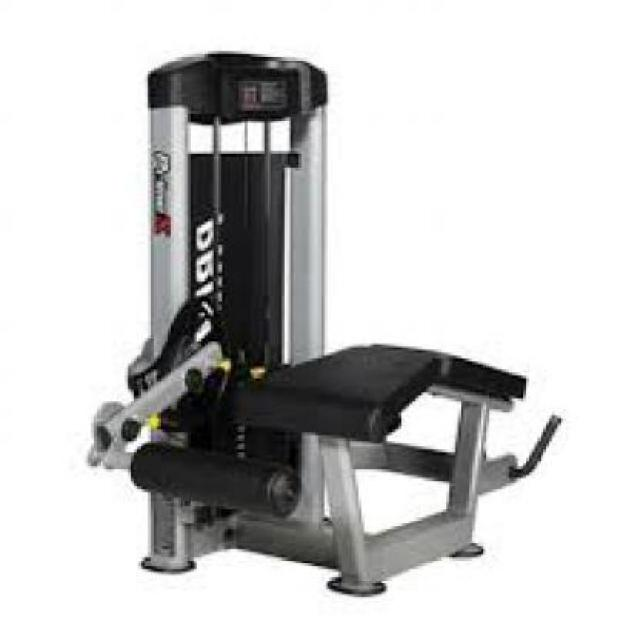reg curl machine: (80, 51, 571, 602)
